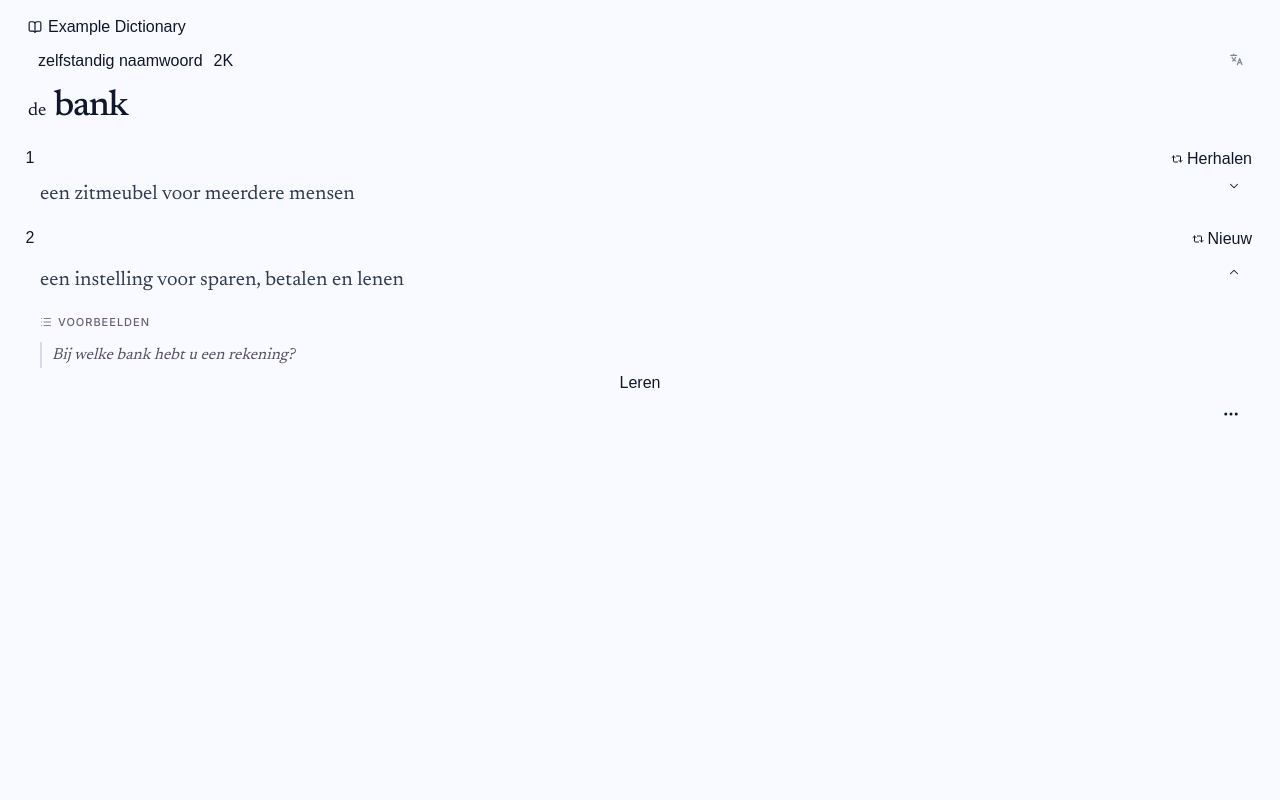
Test: Library word exclusion menu is read-only until the explicit localized action (nl)
This screenshot has width=1280, height=800.
Click the button named "Meer kaartacties": (1231, 414) [1222,400,1240,428]
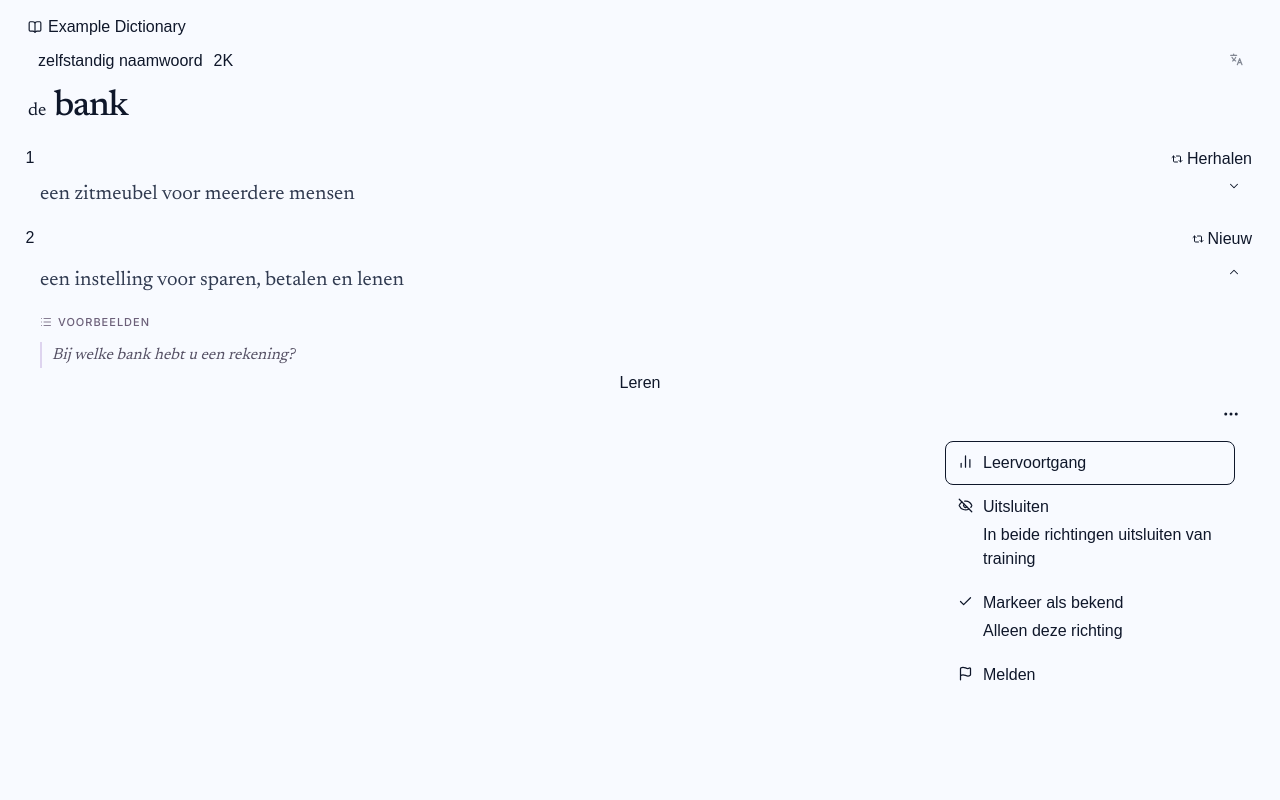
Check: the number of menu items is 4
Click the menu item "Uitsluiten": (1090, 533) [945,485,1235,581]
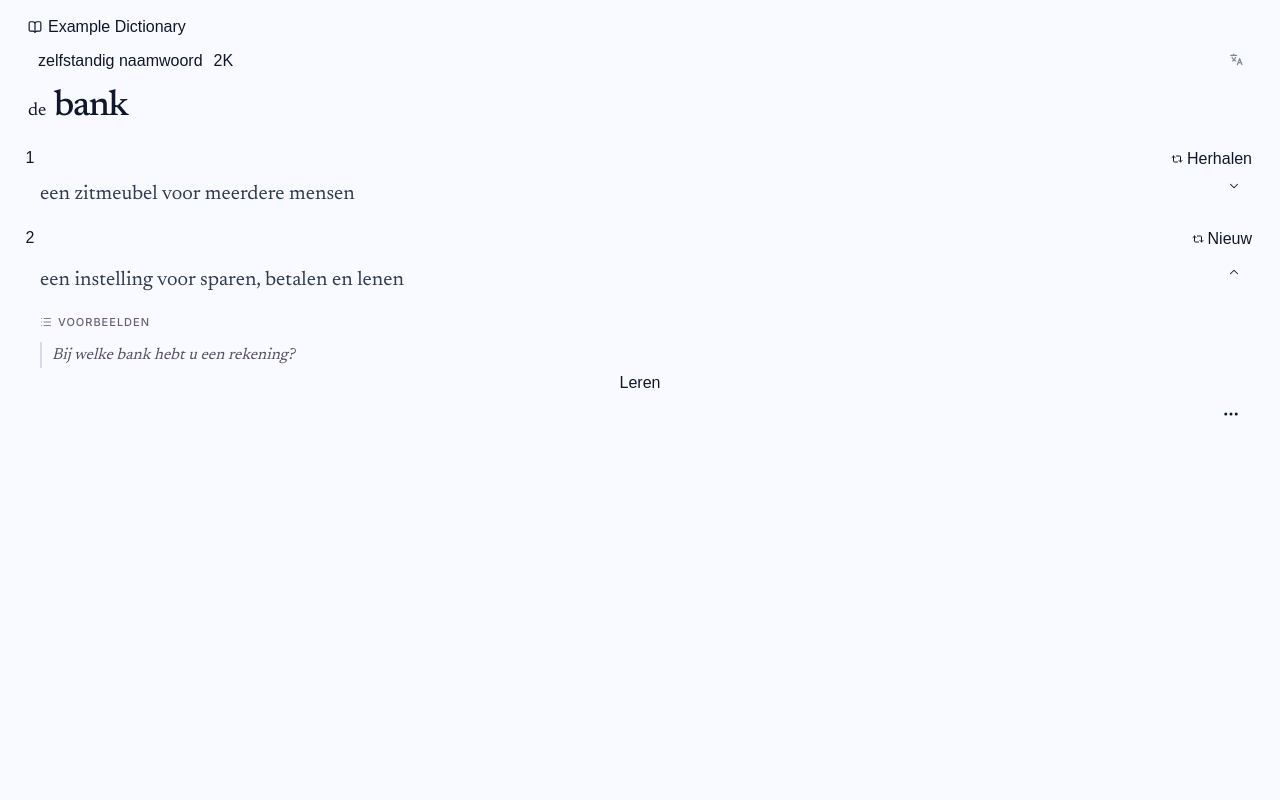
Check: the menu is gone
